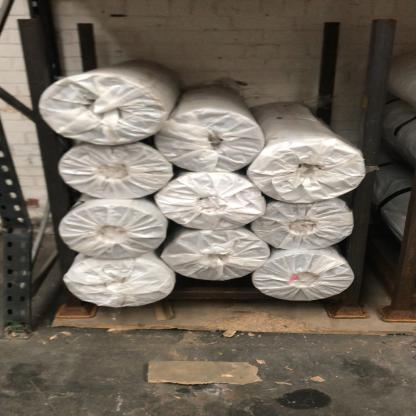vertical_damage: (1, 132, 41, 338)
